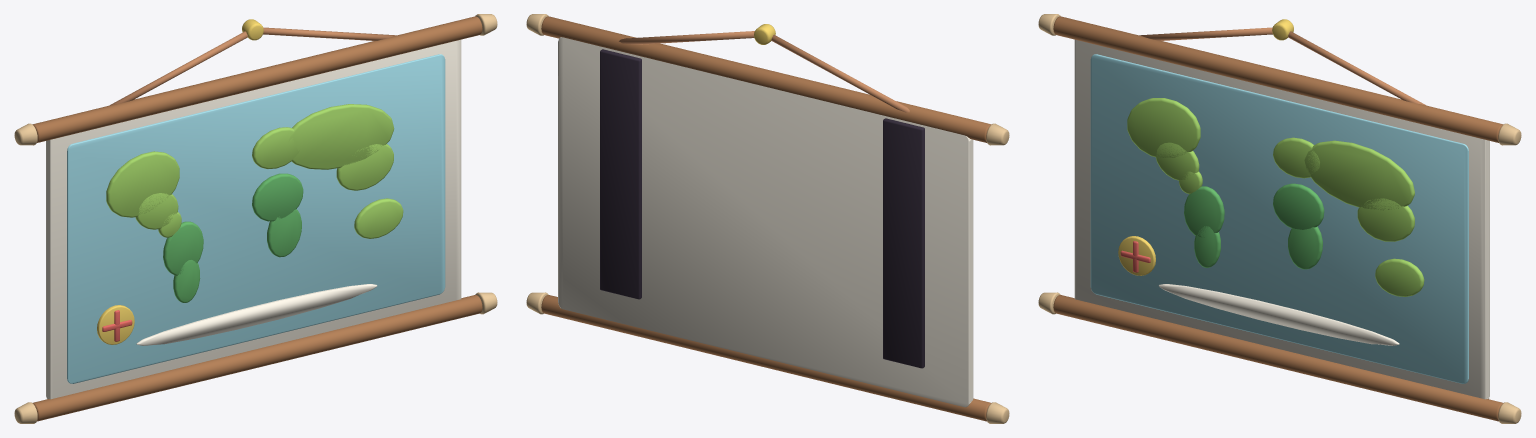
File: wall-map.glb
The picture shows the model from 3 angles, left to right: view 1: azimuth 30°, elevation 25°; view 2: azimuth 150°, elevation 25°; view 3: azimuth 330°, elevation 25°; orthographic projection.
Parts seen in each view (by area): view 1: DecWallMap_OceanField, DecWallMap_CanvasAndPolar, DecWallMap_ScrollRollers, DecWallMap_ContinentsLight, DecWallMap_ContinentsMid, DecWallMap_HangingCord, DecWallMap_RollerFinials, DecWallMap_CompassAndPeg; view 2: DecWallMap_CanvasAndPolar, DecWallMap_WallCleats, DecWallMap_ScrollRollers, DecWallMap_HangingCord, DecWallMap_RollerFinials; view 3: DecWallMap_OceanField, DecWallMap_CanvasAndPolar, DecWallMap_ScrollRollers, DecWallMap_ContinentsLight, DecWallMap_ContinentsMid, DecWallMap_HangingCord, DecWallMap_RollerFinials, DecWallMap_CompassAndPeg.
Part boxes in pixels (bbox=[...]): DecWallMap_OceanField: bbox=[67, 54, 445, 383]; DecWallMap_CanvasAndPolar: bbox=[46, 39, 461, 399]; DecWallMap_ScrollRollers: bbox=[32, 16, 482, 421]; DecWallMap_ContinentsLight: bbox=[106, 104, 403, 238]; DecWallMap_ContinentsMid: bbox=[163, 173, 303, 302]; DecWallMap_HangingCord: bbox=[109, 27, 396, 105]; DecWallMap_RollerFinials: bbox=[14, 14, 497, 423]; DecWallMap_CompassAndPeg: bbox=[97, 19, 263, 344]; DecWallMap_CanvasAndPolar: bbox=[558, 37, 973, 407]; DecWallMap_WallCleats: bbox=[600, 49, 924, 368]; DecWallMap_ScrollRollers: bbox=[541, 16, 991, 421]; DecWallMap_HangingCord: bbox=[619, 31, 909, 112]; DecWallMap_RollerFinials: bbox=[526, 14, 1009, 423]; DecWallMap_OceanField: bbox=[1090, 54, 1468, 383]; DecWallMap_CanvasAndPolar: bbox=[1074, 39, 1489, 399]; DecWallMap_ScrollRollers: bbox=[1053, 16, 1503, 421]; DecWallMap_ContinentsLight: bbox=[1127, 98, 1424, 296]; DecWallMap_ContinentsMid: bbox=[1184, 183, 1324, 269]; DecWallMap_HangingCord: bbox=[1139, 27, 1426, 105]; DecWallMap_RollerFinials: bbox=[1038, 14, 1521, 423]; DecWallMap_CompassAndPeg: bbox=[1118, 19, 1293, 275].
Bounding box in the file's own units: 1.41 × 0.9775 × 0.065.
